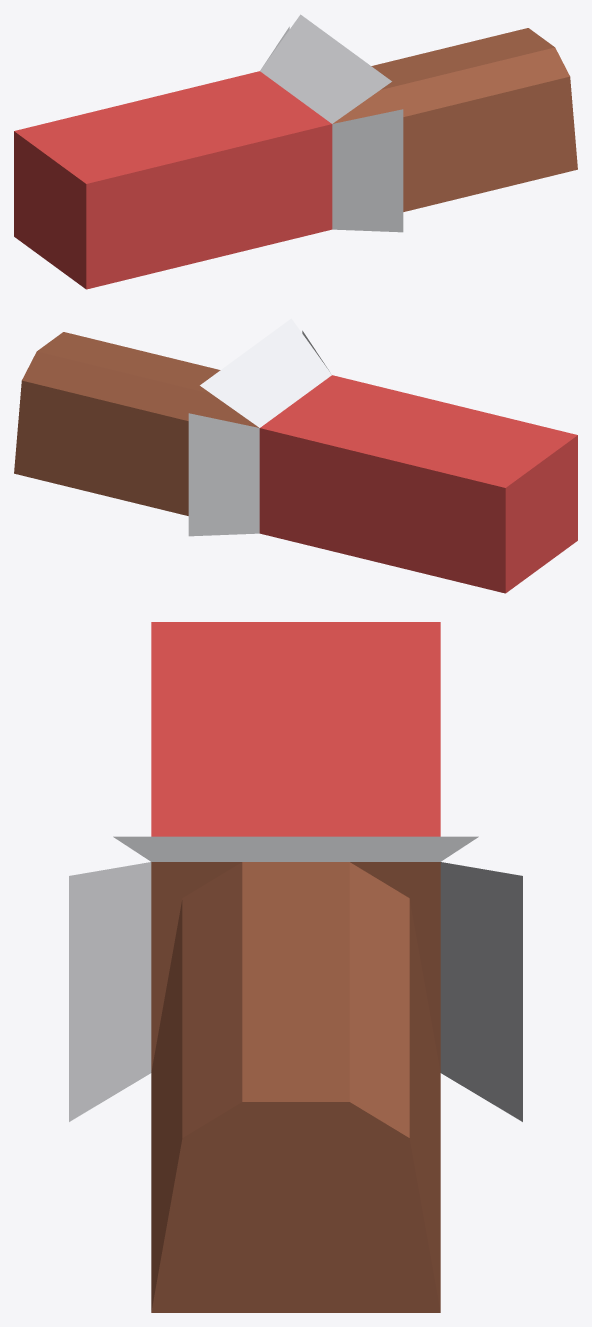
Rendered from candyBarWrapper.fbx.
The picture shows the model from 3 angles, top to bottom: view 1: azimuth 30°, elevation 25°; view 2: azimuth 150°, elevation 25°; view 3: azimuth 270°, elevation 25°; orthographic projection. The views are drawn at different scales.
Visible parts, largest first — view 1: candyBarWrapper; view 2: candyBarWrapper; view 3: candyBarWrapper.
Boxes of the visible parts, x1,y1,x2,y2 form: candyBarWrapper: (14,14,577,289); candyBarWrapper: (14,318,577,593); candyBarWrapper: (69,622,522,1312).
Size of the model in its own units: 2.92 by 0.812 by 1.17.
